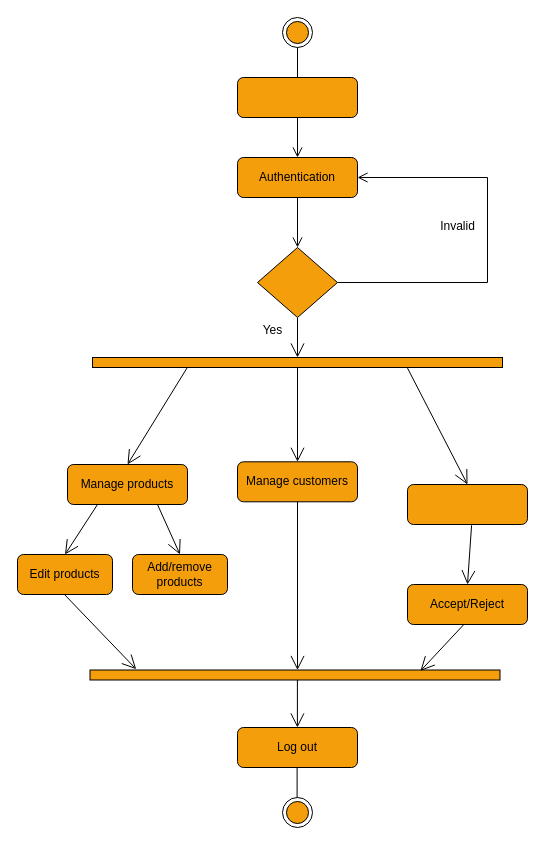
Image size: 545x845. Some labels were removed from this diagram. Here are the shapes that lost their labels. From the top down, the centre of each, then its label:
At point (297, 97): "Log in".
At point (297, 282): "Check".
At point (467, 504): "Manage Custom Orders".
